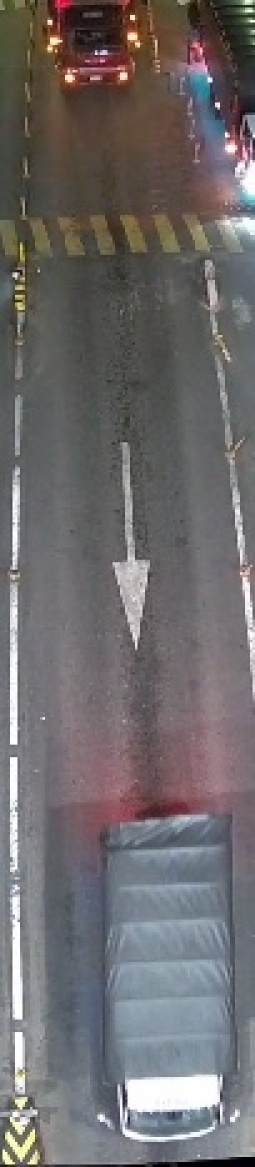truck: (79, 798, 240, 1148), (38, 1, 142, 107)
